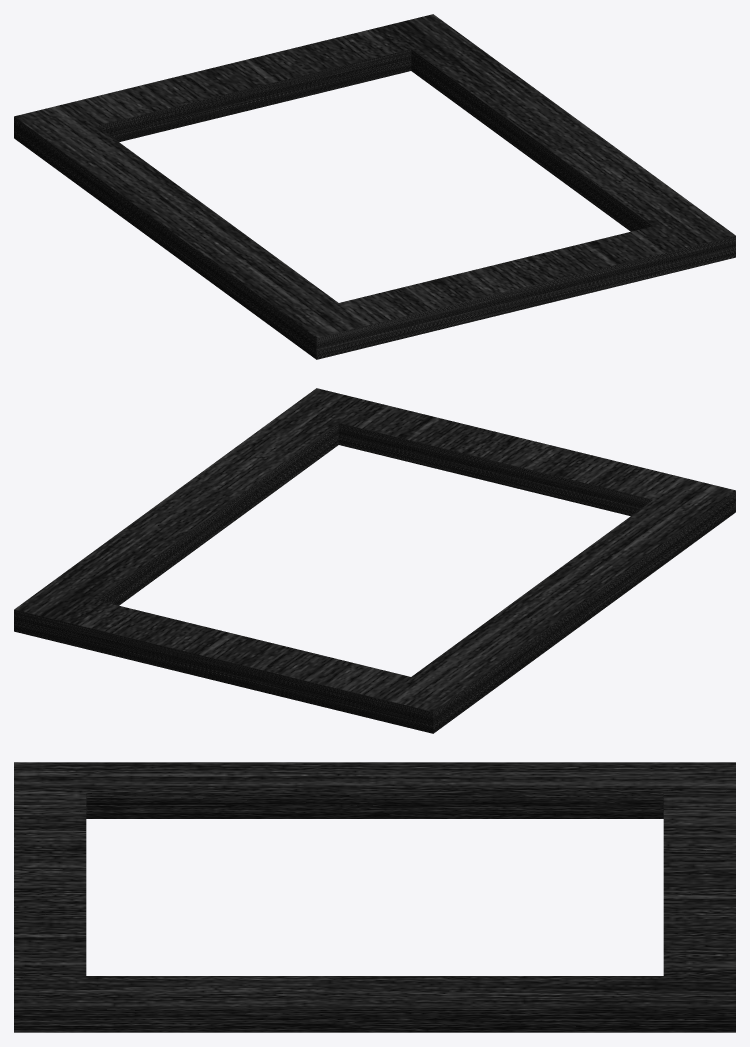
File: espelhoframe.fbx
3 renders of one model, top to bottom at view 1: azimuth 30°, elevation 25°; view 2: azimuth 150°, elevation 25°; view 3: azimuth 270°, elevation 25°, orthographic. The views are drawn at different scales.
Visible parts, largest first — view 1: Cube; view 2: Cube; view 3: Cube.
Boxes of the visible parts, box(x1,y1,x2,y2) form: Cube: box(14, 14, 735, 359); Cube: box(14, 388, 735, 733); Cube: box(14, 762, 735, 1032).
Bounding box in the file's own units: 20 × 1 × 25.
Materials: 1 (1 with a texture image).
